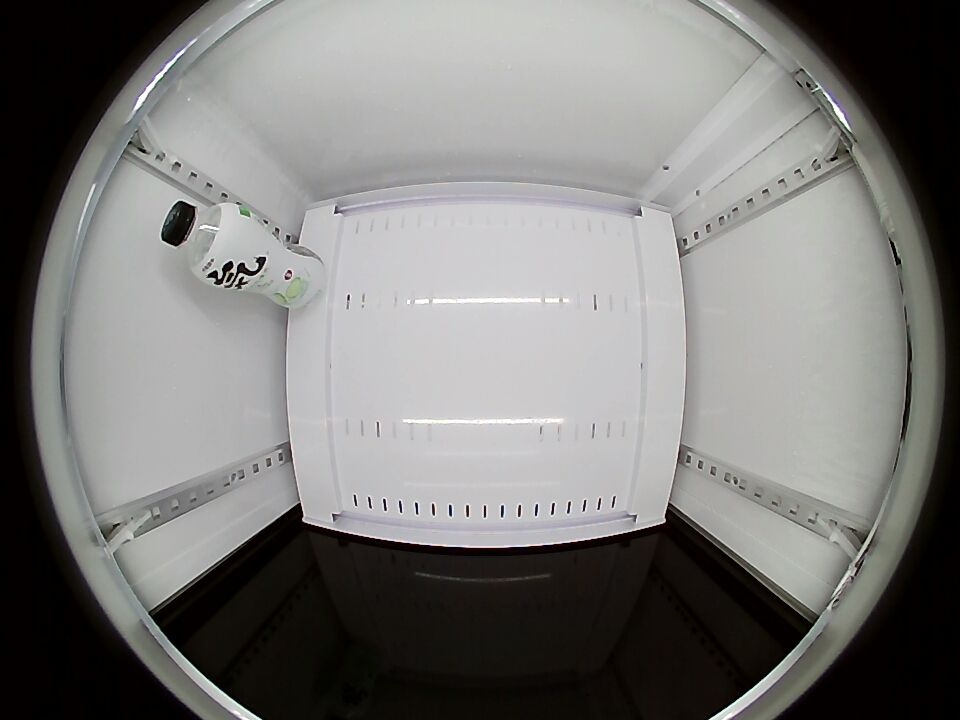yuanqishui: (160, 200, 254, 284)
